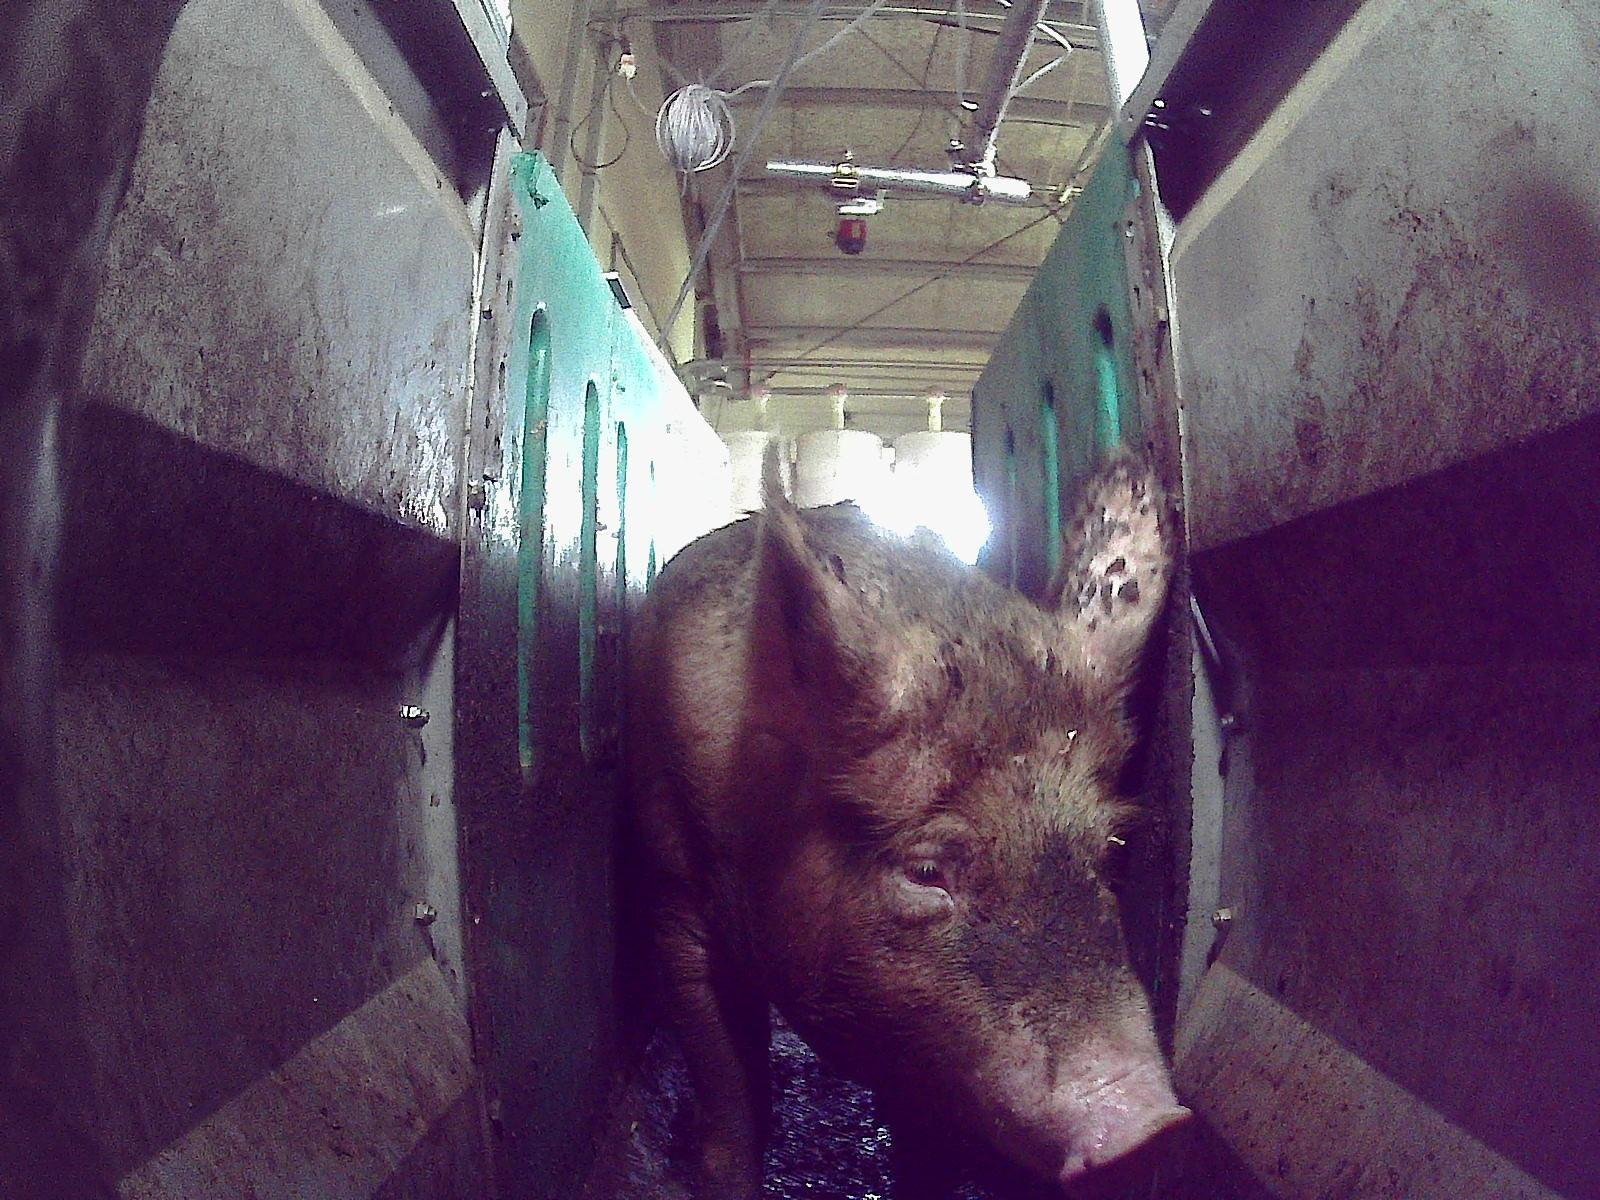Face: (765, 650, 1195, 1199)
